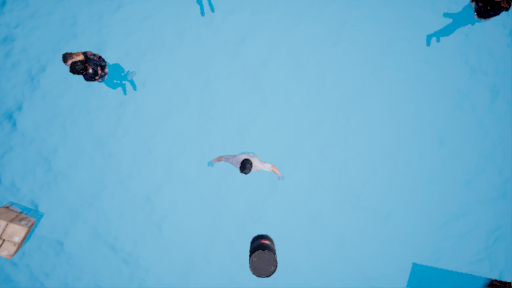person: (66, 50, 132, 101), (213, 149, 283, 184)
